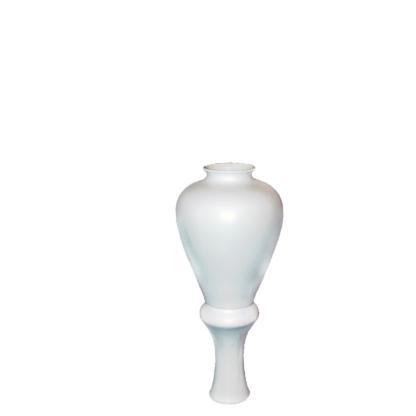vase: (175, 161, 283, 403)
